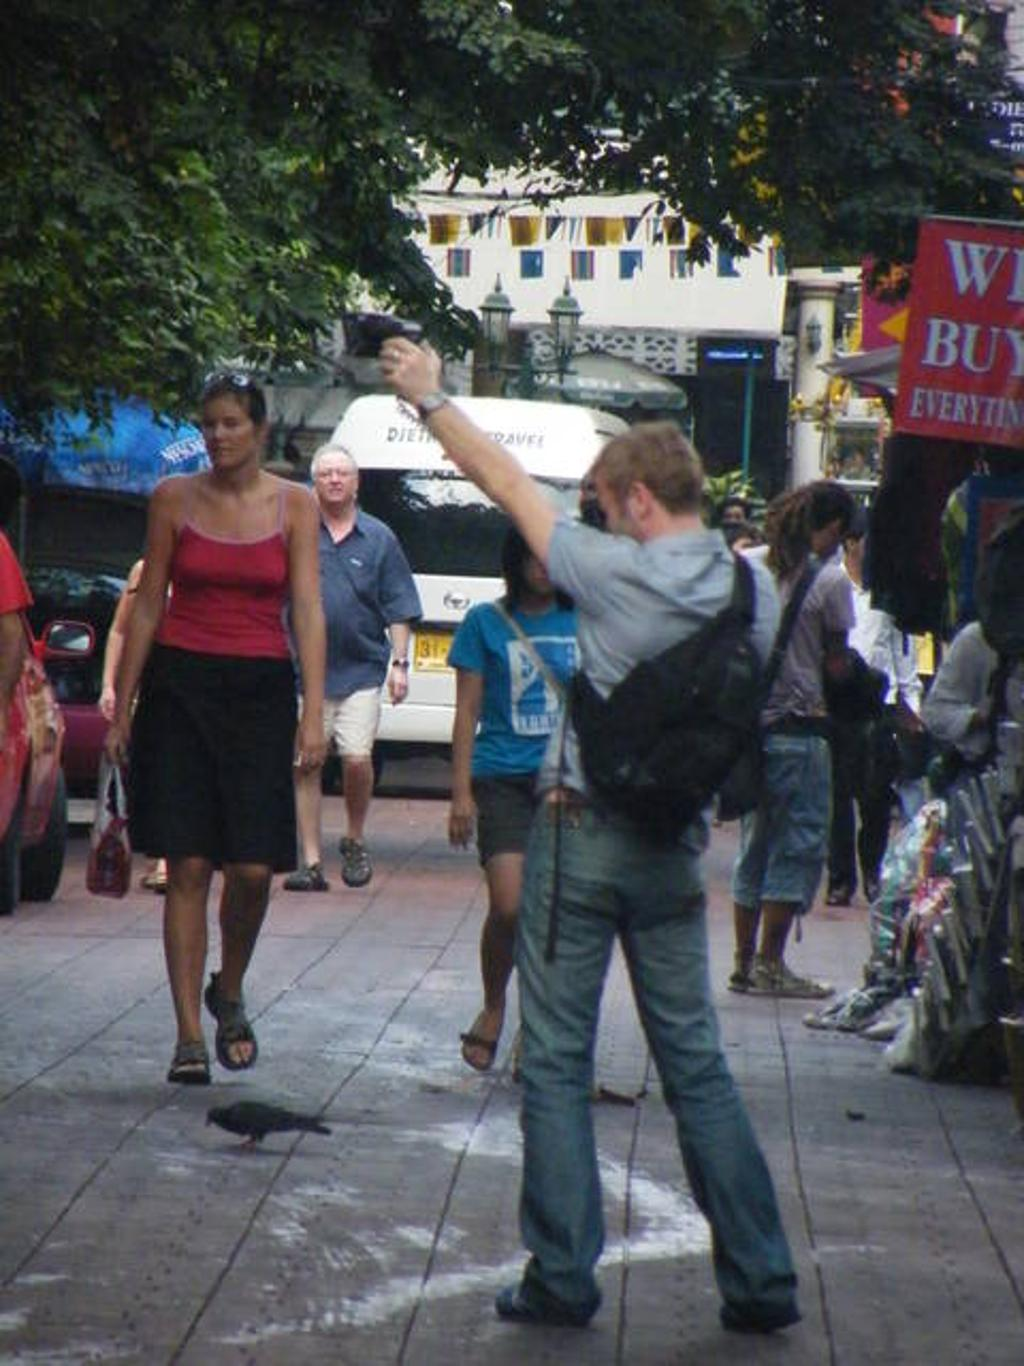face: (591, 474, 648, 549), (200, 393, 251, 466), (315, 452, 355, 504), (521, 538, 557, 594), (805, 510, 845, 549), (723, 508, 742, 533)
